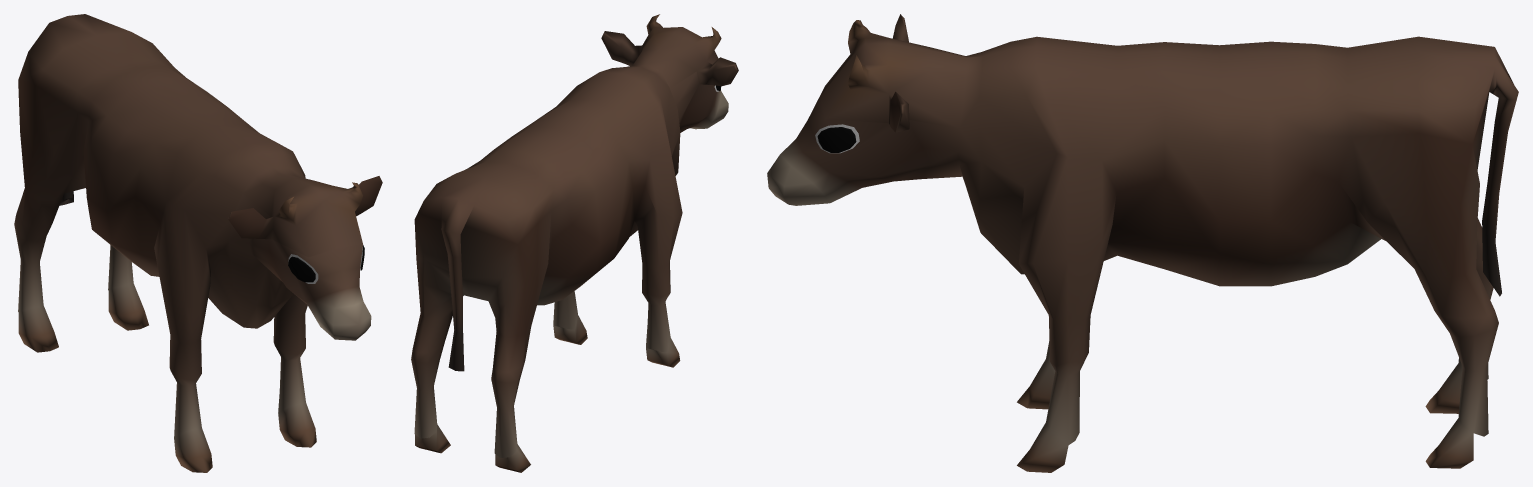
3 renders of one model, left to right at view 1: azimuth 30°, elevation 25°; view 2: azimuth 150°, elevation 25°; view 3: azimuth 270°, elevation 25°, orthographic. The views are drawn at different scales.
Visible parts, largest first — view 1: alt579; view 2: alt579; view 3: alt579.
Part boxes in pixels (x1,y1,x2,y2): alt579: (14,14,382,472); alt579: (411,14,738,472); alt579: (767,14,1518,472).
Bounding box in the file's own units: 0.1476 × 0.291 × 0.5.
